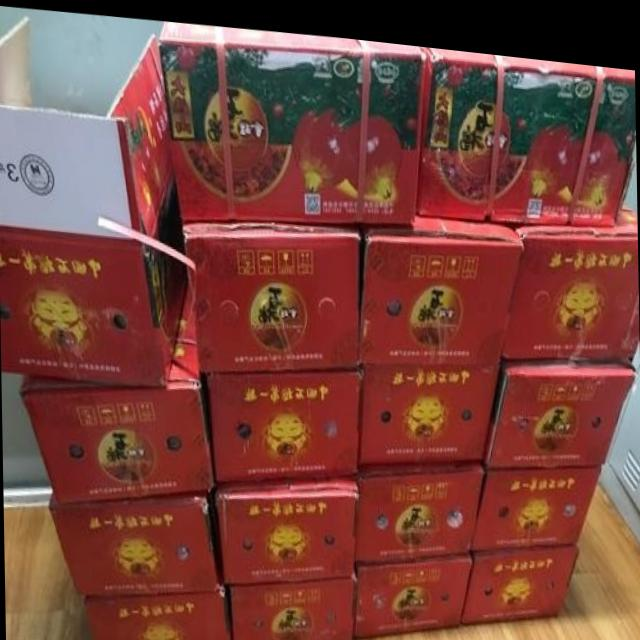box: (0, 17, 187, 383), (157, 20, 426, 216), (19, 273, 215, 501), (418, 37, 636, 211), (183, 217, 360, 367), (359, 207, 524, 357), (501, 185, 639, 352), (46, 490, 224, 597), (204, 362, 361, 480), (485, 347, 637, 456), (212, 472, 357, 576), (355, 449, 486, 554), (360, 358, 498, 456), (472, 456, 600, 540), (354, 544, 473, 629), (461, 533, 579, 614), (229, 570, 357, 640), (83, 580, 231, 640)
